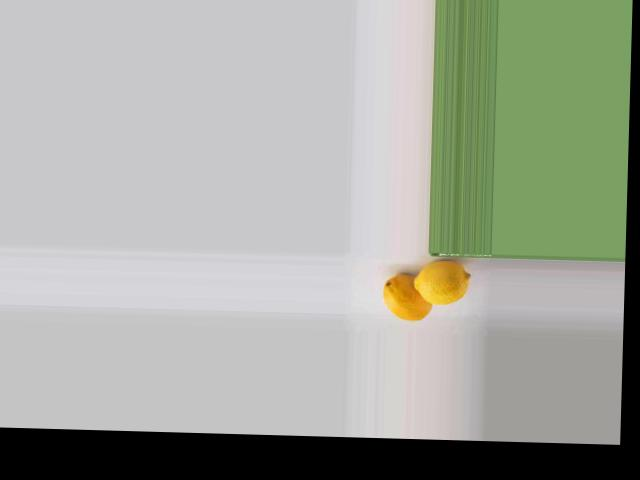lemon: (380, 277, 430, 322)
